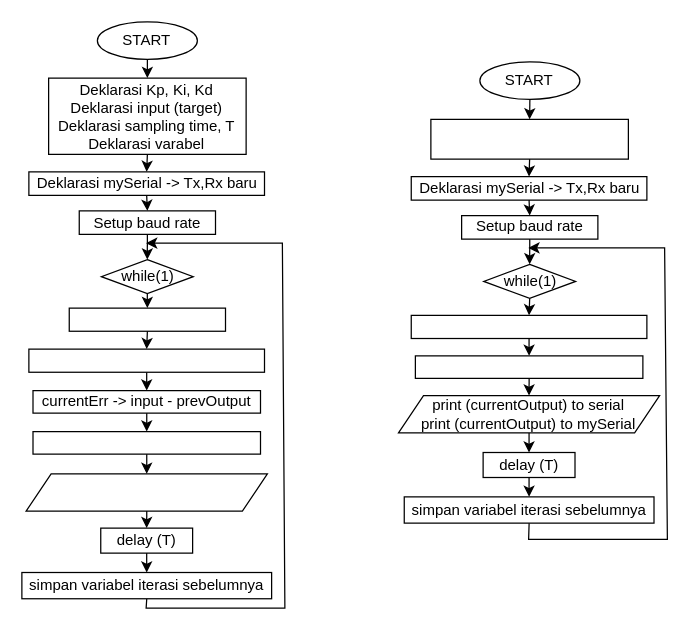
The diagram is 700 pixels wide and 640 high, and some of its shapes have lost their labels. Here are the shapes that lost their labels. From the top down, the box of each, then its label:
(430, 118, 628, 159): Deklarasi sampling time, T Deklarasi varabel
(68, 307, 226, 331): input -> bacaan serial
(410, 314, 647, 338): currentCtrl -> bacaan mySerial
(28, 348, 264, 372): currentOutput -> bacaan mySerial
(414, 355, 643, 378): currentOutput -> (rumus plant)
(32, 430, 260, 454): currentCtrl -> (rumus controller)
(25, 473, 267, 511): print (input) to serial print (currentCtrl) to mySerial
